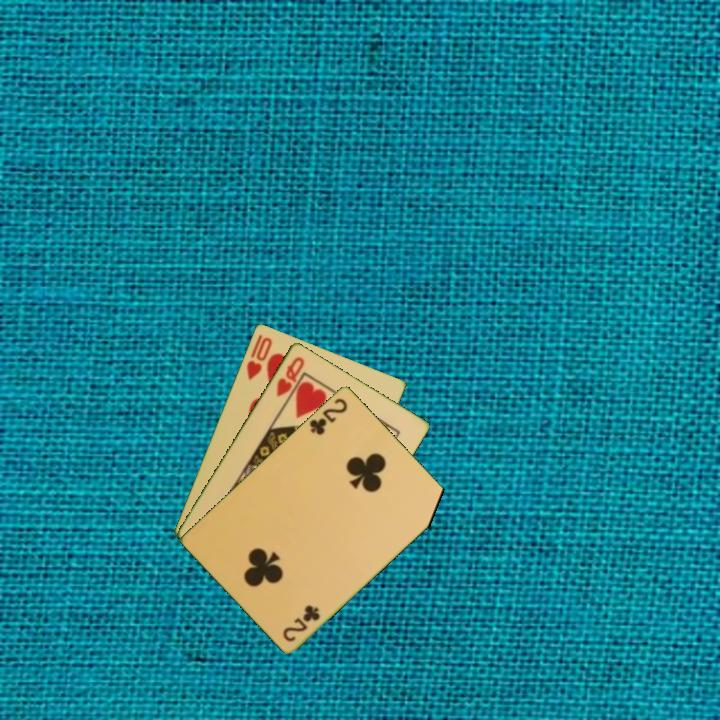10h: (243, 331, 275, 383)
2c: (306, 394, 350, 437), (279, 601, 323, 644)
Qh: (273, 353, 307, 399)
